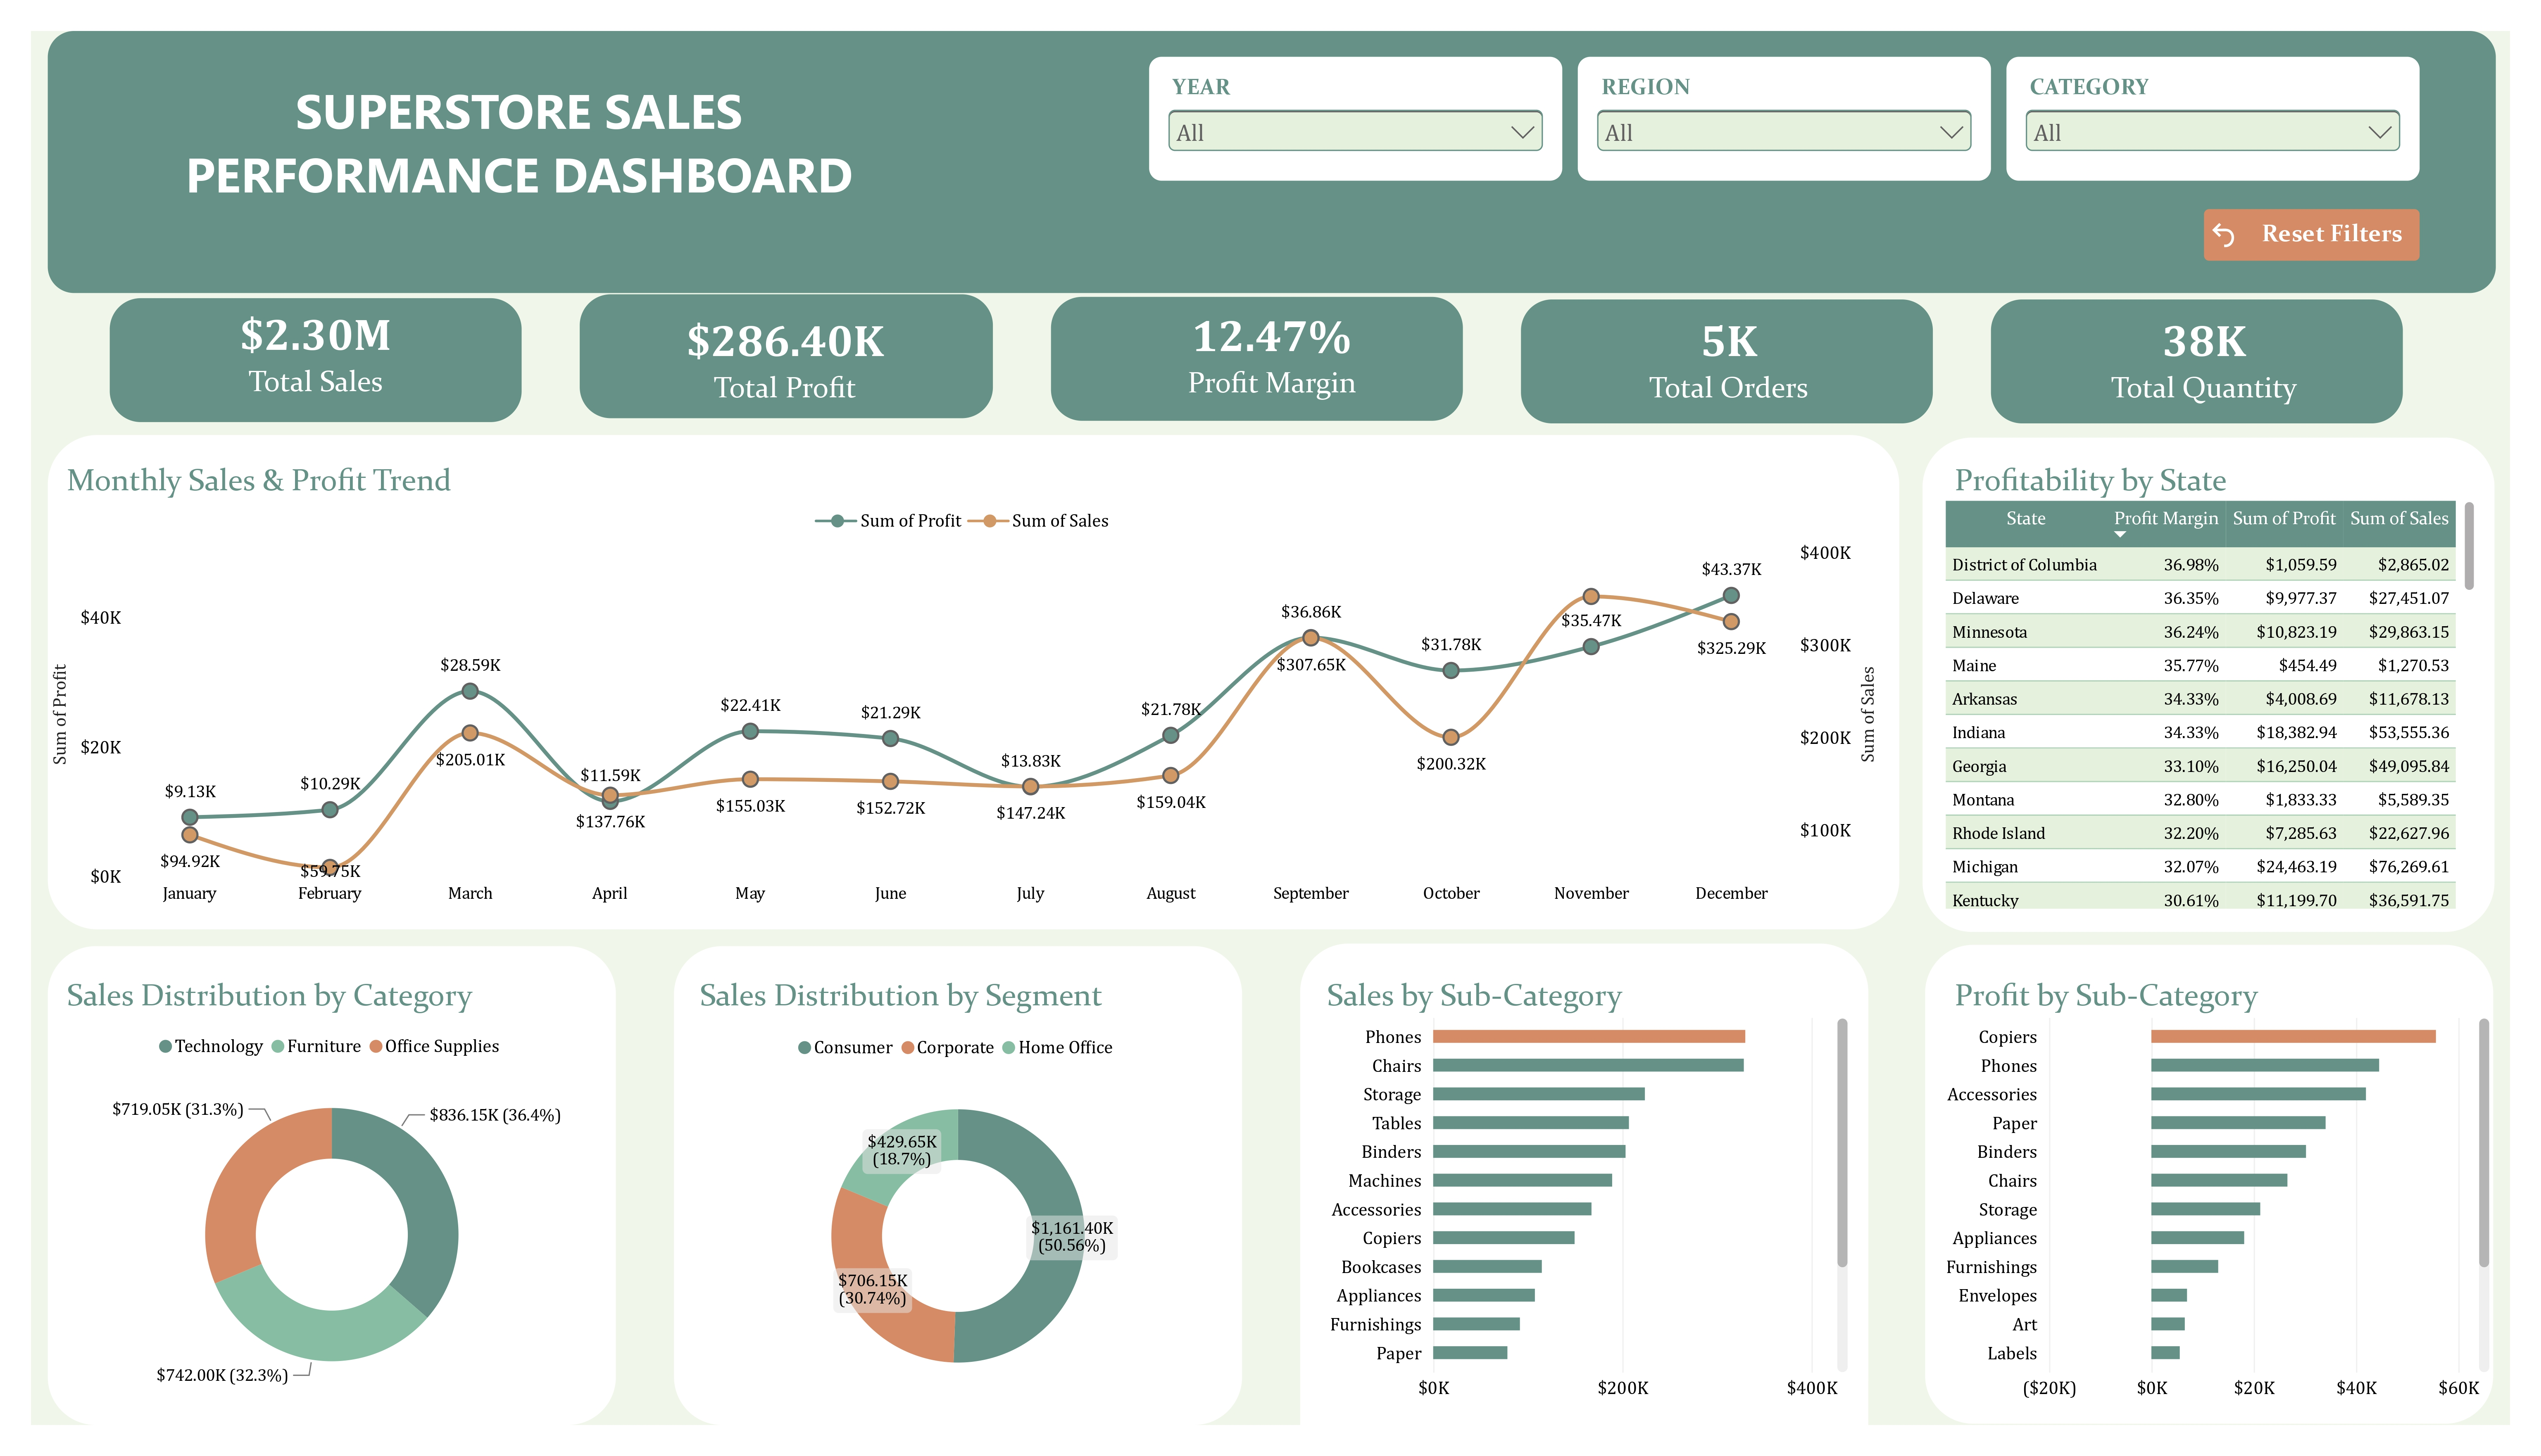

The page's visual inventory and layout, read from the dashboard file:
{"tool":"powerbi","page":{"name":"Page 1","canvas":[1920,1080],"ordinal":0},"visuals":[{"type":"shape","box":[61,206.8,318.5,96.3],"z":0},{"type":"shape","box":[424.9,204,320,96],"z":1000},{"type":"shape","box":[790.2,206,318.5,96.3],"z":2000},{"type":"shape","box":[1154.1,208,318.5,96.3],"z":3000},{"type":"cardVisual","fields":{"Data":["Sample - Superstore.Total Sales"]},"box":[132,202,176.6,97.8],"z":4000},{"type":"cardVisual","fields":{"Data":["Sample - Superstore.Total Profit"]},"box":[484,208,200,95.7],"z":5000},{"type":"cardVisual","fields":{"Data":["Sample - Superstore.Profit Margin"]},"box":[866,204,190,96],"z":6000},{"type":"cardVisual","fields":{"Data":["Sample - Superstore.Total Orders"]},"box":[1220,208,190,96],"z":7000},{"type":"shape","box":[12.5,0,1896.2,202.5],"z":8000},{"type":"textbox","box":[116,36,524,162],"z":9000},{"type":"shape","box":[1518,208,318.5,96.3],"z":10000},{"type":"shape","box":[12.9,312.9,1434.3,382.9],"z":11000},{"type":"cardVisual","fields":{"Data":["Sample - Superstore.Total Quantity"]},"box":[1588,208,190,96],"z":12000},{"type":"shape","box":[1465,315,442.5,382.5],"z":13000},{"type":"tableEx","fields":{"Values":["Sample - Superstore.State","Sample - Superstore.Profit Margin","Sum(Sample - Superstore.Profit)","Sum(Sample - Superstore.Sales)"]},"box":[1465.6,350,443.3,345.6],"z":14000},{"type":"lineChart","fields":{"Category":["Sample - Superstore.Order Date.Variation.Date Hierarchy.Month"],"Y":["Sum(Sample - Superstore.Profit)"],"Y2":["Sum(Sample - Superstore.Sales)"]},"box":[0,350,1447.8,345.6],"z":15000},{"type":"shape","box":[12.9,708.6,440,371.4],"z":16000},{"type":"donutChart","fields":{"Category":["Sample - Superstore.Category"],"Y":["Sum(Sample - Superstore.Sales)"]},"box":[12.9,757.1,440,322.9],"z":17000},{"type":"shape","box":[497.7,708.6,440,371.4],"z":18000},{"type":"donutChart","fields":{"Category":["Sample - Superstore.Segment"],"Y":["Sum(Sample - Superstore.Sales)"]},"box":[498,758,440,322.9],"z":19000},{"type":"shape","box":[982.6,707.5,440,371.4],"z":20000},{"type":"clusteredBarChart","fields":{"Category":["Sample - Superstore.Sub-Category"],"Y":["Sum(Sample - Superstore.Sales)"]},"box":[982.5,742.5,440,337.5],"z":21000},{"type":"shape","box":[1467.5,707.5,440,371.4],"z":22000},{"type":"clusteredBarChart","fields":{"Category":["Sample - Superstore.Sub-Category"],"Y":["Sum(Sample - Superstore.Profit)"]},"box":[1460,742.5,460,337.5],"z":23000},{"type":"textbox","box":[28.3,333.3,318.3,33.3],"z":24000},{"type":"textbox","box":[1490,333.3,241.7,31.7],"z":25000},{"type":"textbox","box":[28.3,731.7,353.3,38.3],"z":26000},{"type":"textbox","box":[518,732,348,34],"z":27000},{"type":"textbox","box":[1004,732,300,34],"z":27001},{"type":"textbox","box":[1490,732,300,34],"z":27002},{"type":"shape","box":[866,20,320,96],"z":27003},{"type":"slicer","fields":{"Values":["Sample - Superstore.Order Date.Variation.Date Hierarchy.Year"]},"box":[876,32,300,70],"z":27004},{"type":"shape","box":[1198,20,320,96],"z":27005},{"type":"shape","box":[1530,20,320,96],"z":27006},{"type":"actionButton","box":[1682.5,137.5,167.5,40],"z":27009},{"type":"slicer","fields":{"Values":["Sample - Superstore.Region"]},"box":[1208,32,300,70],"z":27010},{"type":"slicer","fields":{"Values":["Sample - Superstore.Category"]},"box":[1540,32,300,70],"z":27011}]}

Visuals, with their boxes on the page's 1920x1080 design canvas (x1, y1, x2, y2). These are canvas units, not pixel positions in the 2541x1456 screenshot, which may show the page scaled, cropped or inside an application window:
shape: 61:207:380:303
shape: 425:204:745:300
shape: 790:206:1109:302
shape: 1154:208:1473:304
cardVisual - Sample - Superstore.Total Sales: 132:202:309:300
cardVisual - Sample - Superstore.Total Profit: 484:208:684:304
cardVisual - Sample - Superstore.Profit Margin: 866:204:1056:300
cardVisual - Sample - Superstore.Total Orders: 1220:208:1410:304
shape: 12:0:1909:202
textbox: 116:36:640:198
shape: 1518:208:1836:304
shape: 13:313:1447:696
cardVisual - Sample - Superstore.Total Quantity: 1588:208:1778:304
shape: 1465:315:1908:698
tableEx - Sample - Superstore.State x Sample - Superstore.Profit Margin: 1466:350:1909:696
lineChart - Sample - Superstore.Order Date.Variation.Date Hierarchy.Month x Sum(Sample - Superstore.Profit): 0:350:1448:696
shape: 13:709:453:1080
donutChart - Sample - Superstore.Category x Sum(Sample - Superstore.Sales): 13:757:453:1080
shape: 498:709:938:1080
donutChart - Sample - Superstore.Segment x Sum(Sample - Superstore.Sales): 498:758:938:1081
shape: 983:708:1423:1079
clusteredBarChart - Sample - Superstore.Sub-Category x Sum(Sample - Superstore.Sales): 982:742:1422:1080
shape: 1468:708:1908:1079
clusteredBarChart - Sample - Superstore.Sub-Category x Sum(Sample - Superstore.Profit): 1460:742:1920:1080
textbox: 28:333:347:367
textbox: 1490:333:1732:365
textbox: 28:732:382:770
textbox: 518:732:866:766
textbox: 1004:732:1304:766
textbox: 1490:732:1790:766
shape: 866:20:1186:116
slicer - Sample - Superstore.Order Date.Variation.Date Hierarchy.Year: 876:32:1176:102
shape: 1198:20:1518:116
shape: 1530:20:1850:116
actionButton: 1682:138:1850:178
slicer - Sample - Superstore.Region: 1208:32:1508:102
slicer - Sample - Superstore.Category: 1540:32:1840:102
